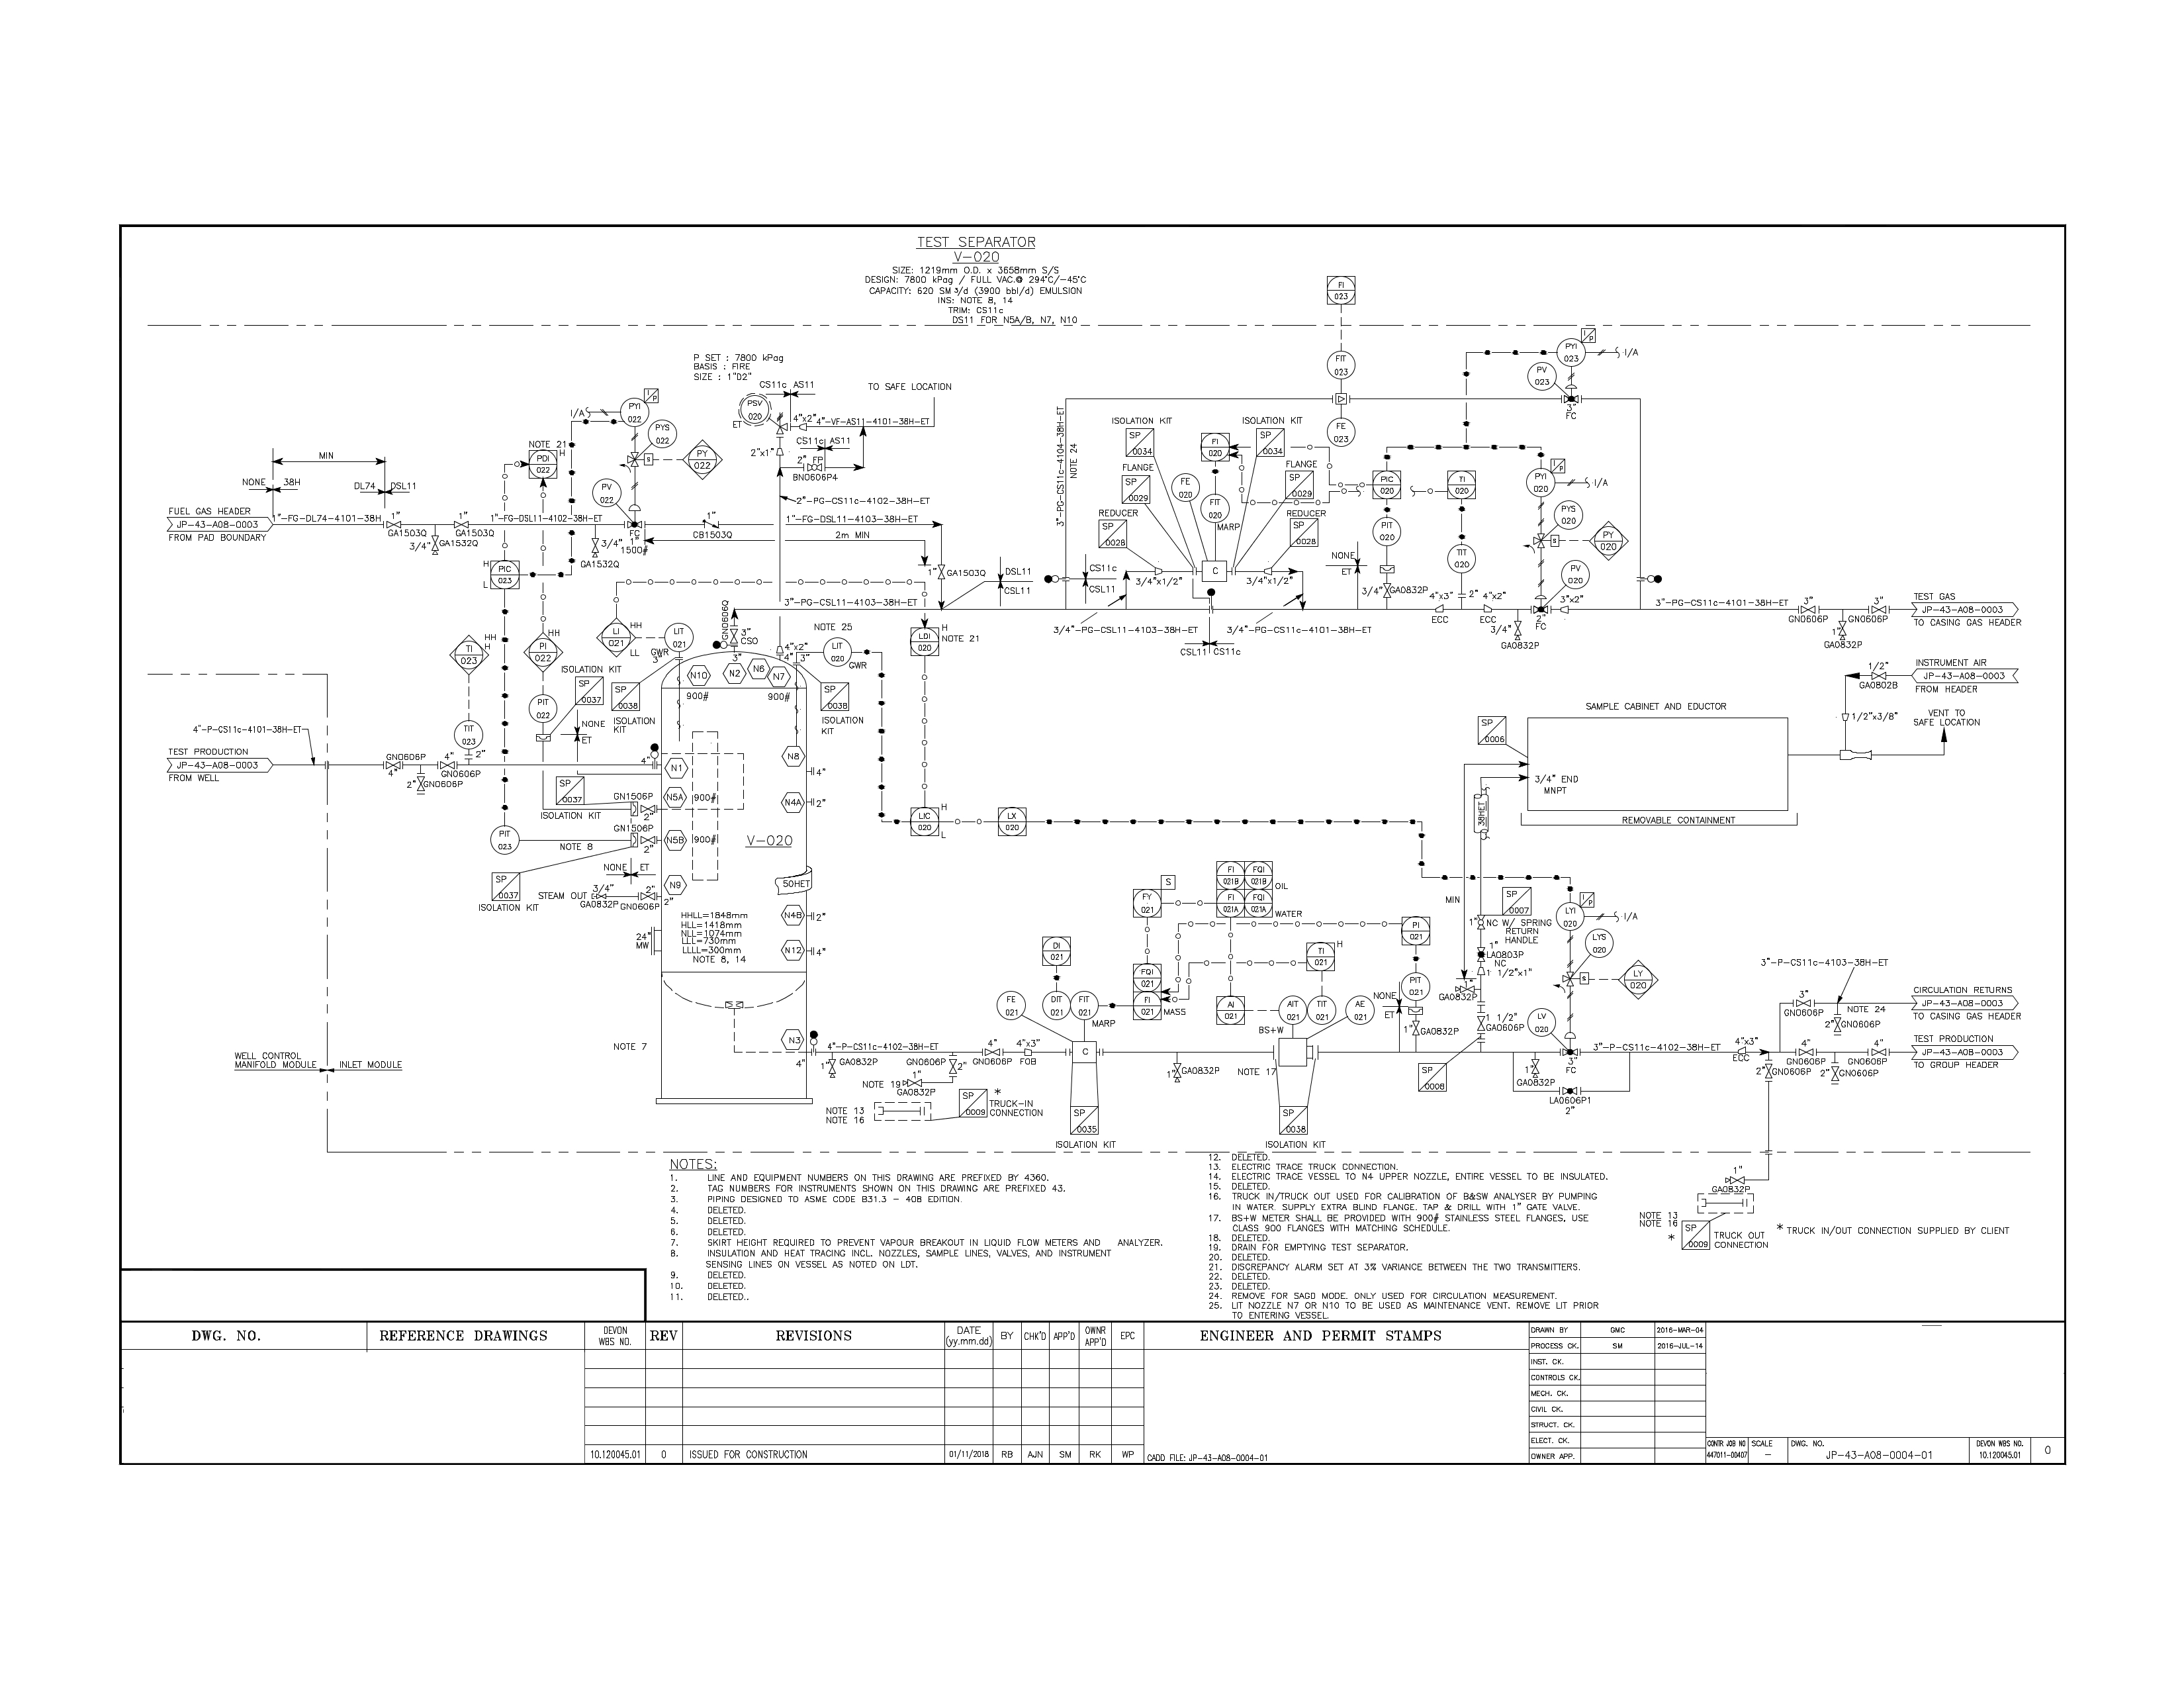Inline Instrument: (737, 392, 773, 431), (452, 718, 484, 750), (663, 621, 695, 653), (823, 637, 854, 668), (994, 988, 1026, 1020), (1039, 989, 1071, 1021), (1071, 989, 1103, 1021), (1276, 995, 1308, 1027), (1306, 995, 1338, 1027), (1345, 995, 1377, 1027), (1400, 970, 1432, 1002), (1526, 1005, 1558, 1037), (1583, 927, 1615, 959), (1556, 901, 1588, 933), (1170, 472, 1202, 504), (1200, 491, 1232, 523), (1372, 516, 1404, 548), (1447, 543, 1478, 574), (1553, 498, 1585, 530), (1526, 465, 1558, 496), (1326, 349, 1358, 381), (1326, 415, 1358, 447), (1555, 337, 1587, 369), (620, 397, 651, 429), (649, 417, 679, 449), (592, 477, 622, 509), (489, 823, 519, 855), (1560, 559, 1590, 590), (1526, 360, 1556, 392), (528, 693, 558, 723)
Panel Instrument: (525, 447, 560, 481), (906, 624, 941, 658), (994, 805, 1030, 839), (1129, 887, 1165, 920), (906, 807, 943, 839), (1324, 273, 1361, 305), (487, 557, 523, 589), (1041, 934, 1076, 966), (1213, 860, 1248, 892), (1239, 860, 1275, 892), (1243, 887, 1278, 918), (1211, 887, 1246, 918), (1129, 959, 1165, 991), (1131, 991, 1166, 1023), (1214, 995, 1250, 1027), (1305, 940, 1340, 972), (1399, 915, 1434, 947), (1370, 468, 1406, 500), (1198, 431, 1234, 463), (1445, 468, 1480, 500)
